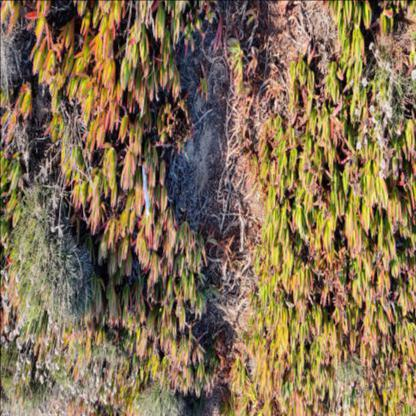Unlabeled litter: (142, 165, 149, 218)
